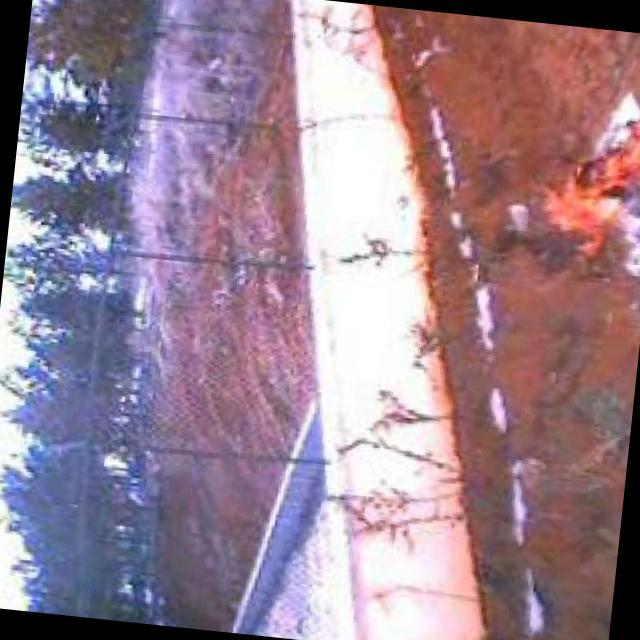Fire: (528, 105, 640, 281)
